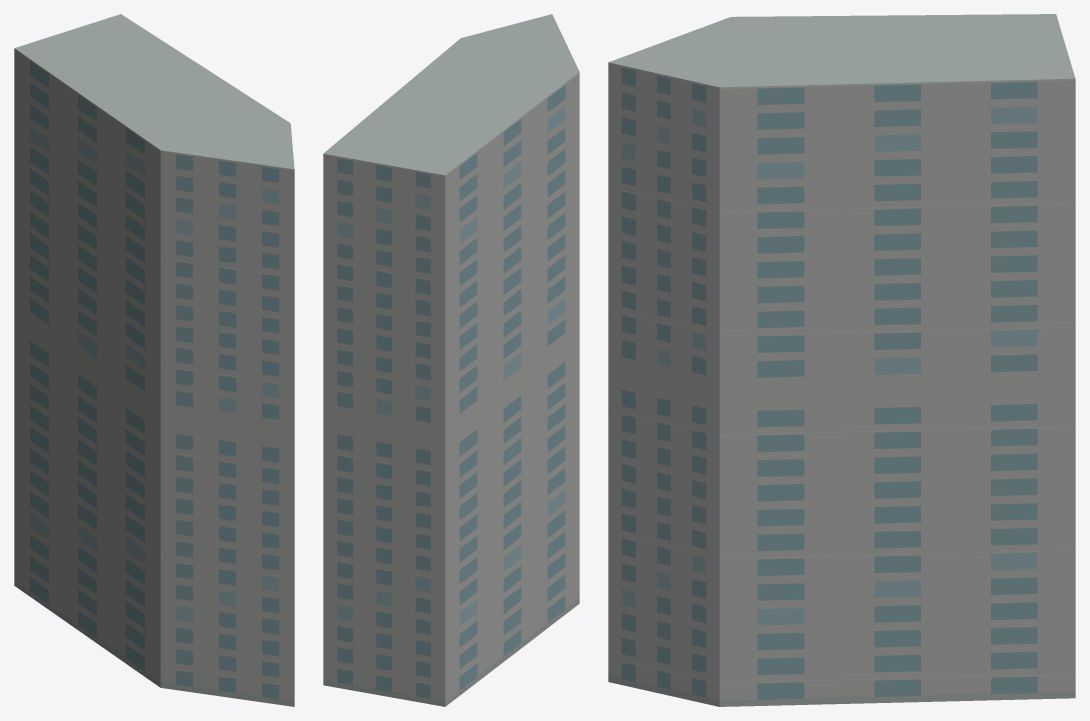
The model's file is residential-323cd3c8-9c4a-4892-8234-ea90cc4dccf6.glb.
3 renders of one model, left to right at view 1: azimuth 30°, elevation 25°; view 2: azimuth 150°, elevation 25°; view 3: azimuth 270°, elevation 25°, orthographic. The views are drawn at different scales.
Parts seen in each view (by area): view 1: residential-323cd3c8-9c4a-4892-8234-ea90cc4dccf6.tmp; view 2: residential-323cd3c8-9c4a-4892-8234-ea90cc4dccf6.tmp; view 3: residential-323cd3c8-9c4a-4892-8234-ea90cc4dccf6.tmp.
Boxes of the visible parts, <box> form: residential-323cd3c8-9c4a-4892-8234-ea90cc4dccf6.tmp: <box>14,14,294,706</box>; residential-323cd3c8-9c4a-4892-8234-ea90cc4dccf6.tmp: <box>323,14,579,706</box>; residential-323cd3c8-9c4a-4892-8234-ea90cc4dccf6.tmp: <box>608,14,1075,706</box>.
Bounding box in the file's own units: 20.83 × 82 × 56.04.
